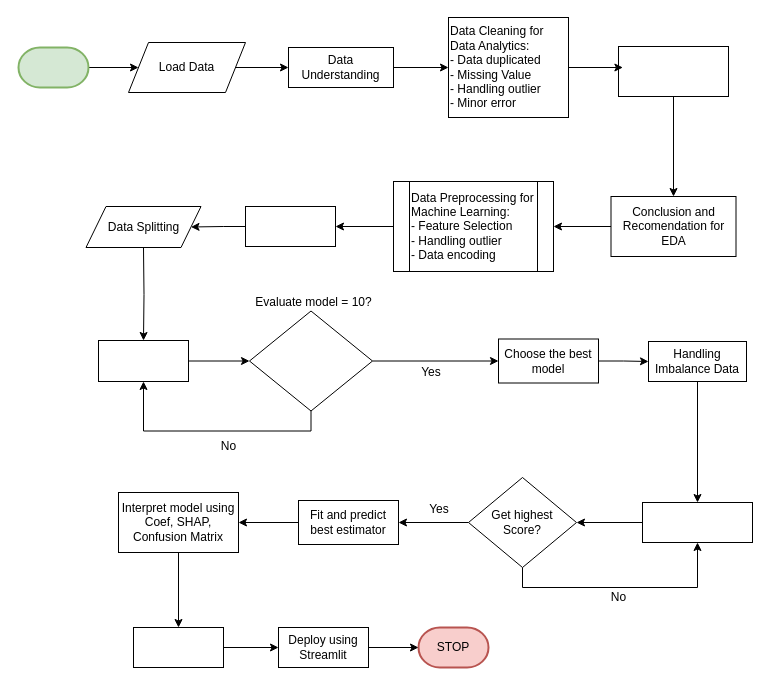
This 770x686 diagram has some shape labels left out. Each missing label, with the box of its shape:
Cross validation 10 model: (248, 310, 372, 411)
Exploratory Data Analysis: (618, 46, 728, 96)
Hyperparameter Tuning: (642, 502, 752, 542)
Model Evaluation: (98, 340, 188, 382)
Modelling: (244, 206, 336, 246)
Save Model: (132, 626, 224, 668)
START: (17, 46, 89, 88)
